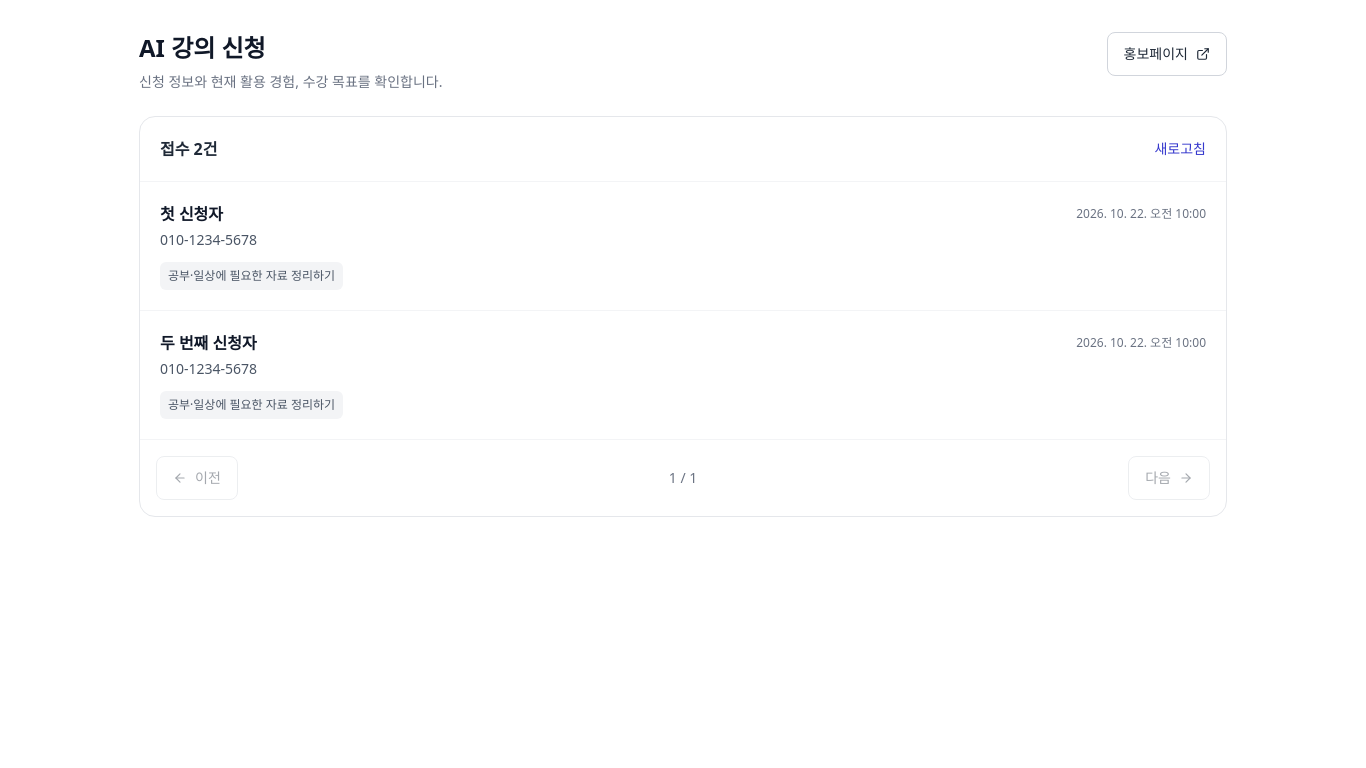
AI course admin screen › discards a stale detail response when selection changes
Click the button with aria-label "신청 보기: 첫 신청자" at (192, 214), box top-left (140, 182), bottom-right (1226, 310)
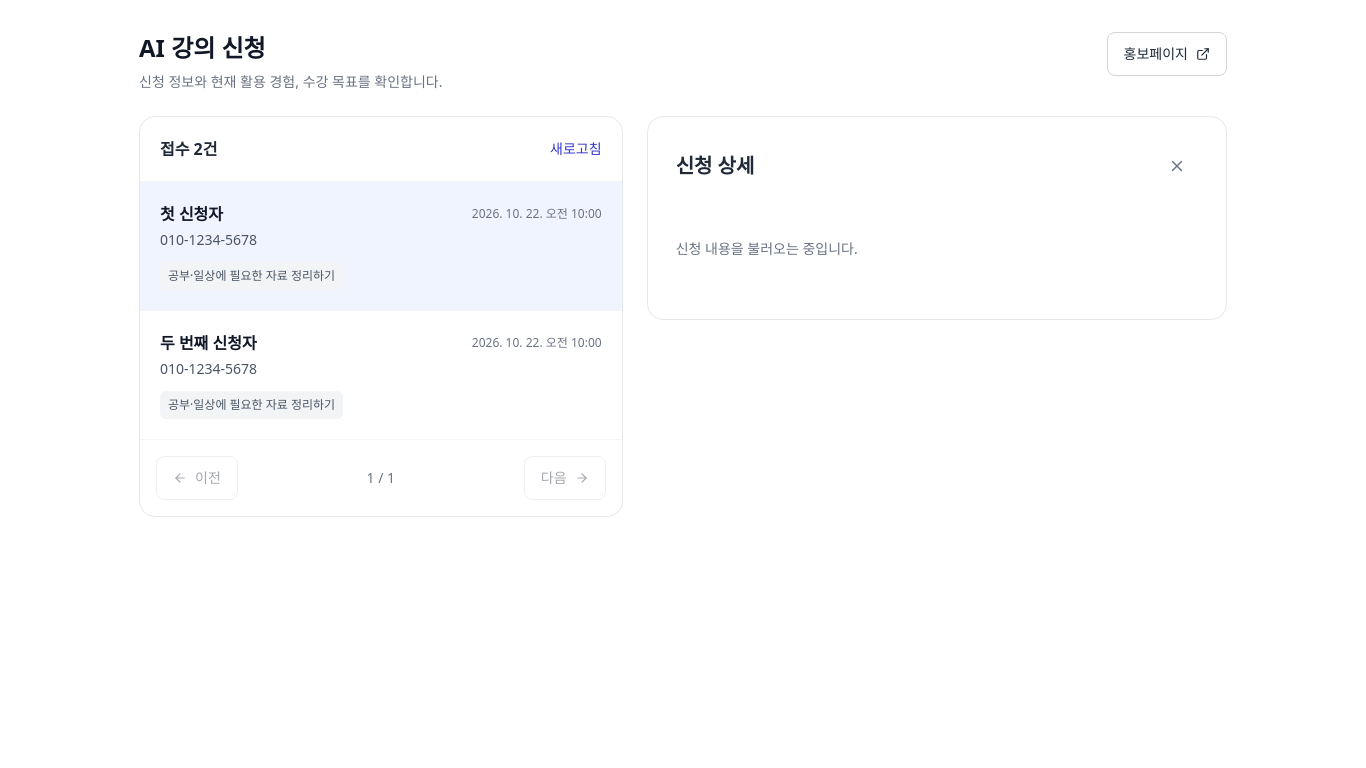
Click the button with aria-label "신청 보기: 두 번째 신청자" at (208, 343), box top-left (140, 311), bottom-right (622, 439)
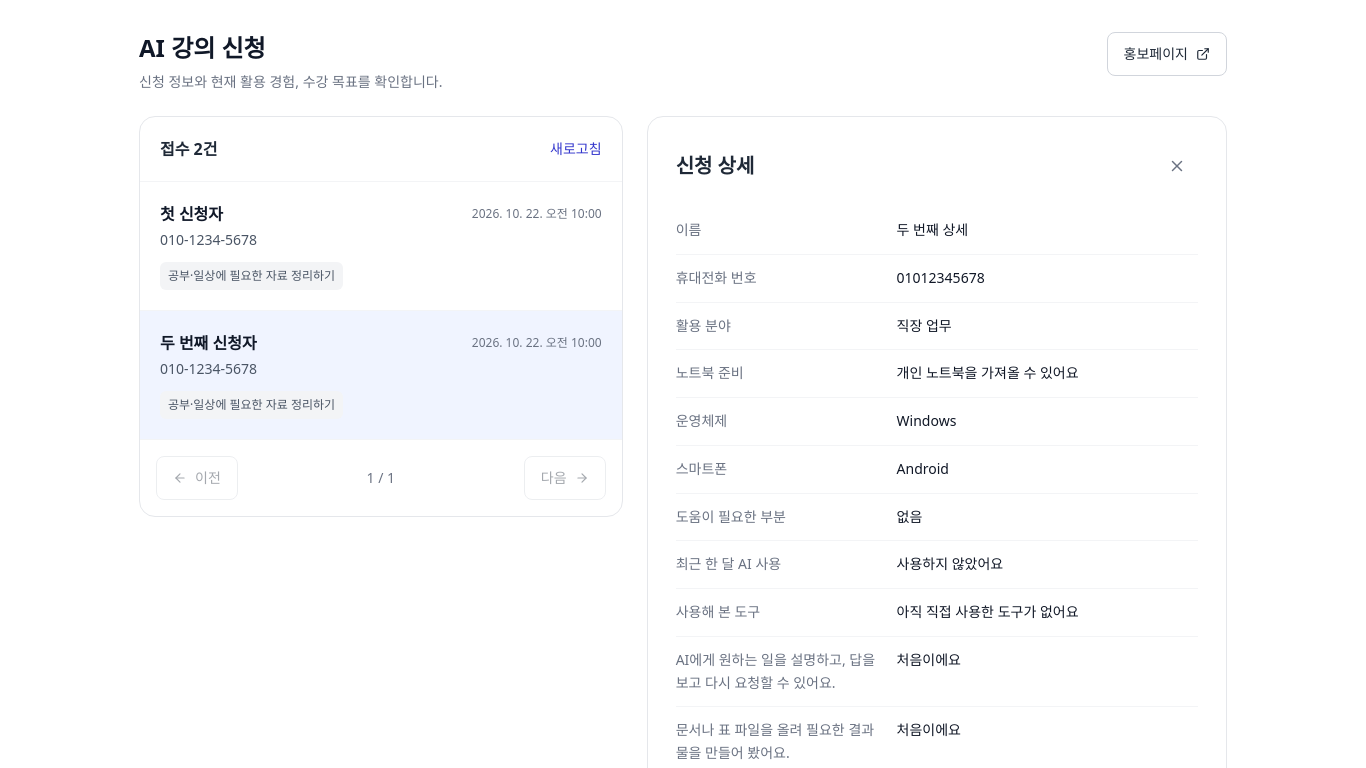
Expected: the text "두 번째 상세" is shown, top-left (897, 220), bottom-right (968, 239)
